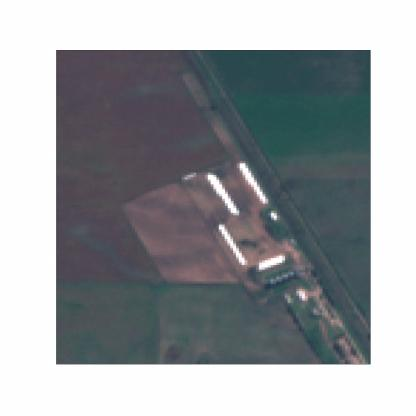silobolsa: (207, 173, 241, 216), (240, 161, 267, 203), (218, 226, 246, 264), (255, 252, 287, 270)
